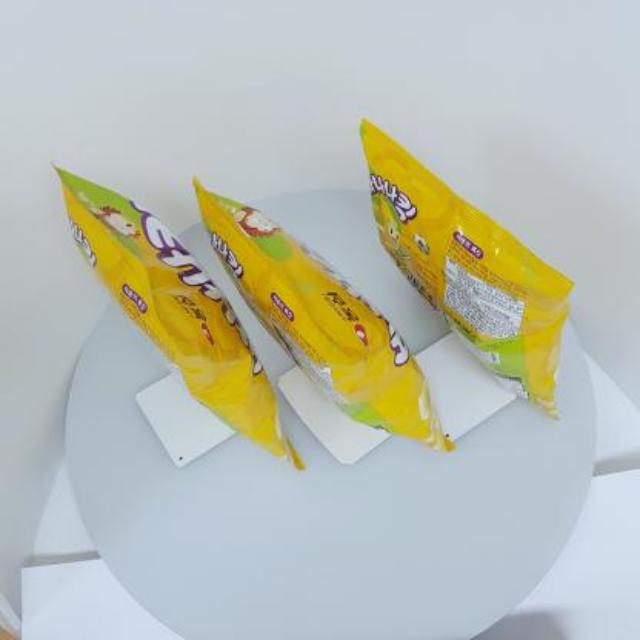snack_bag: (46, 112, 586, 480)
